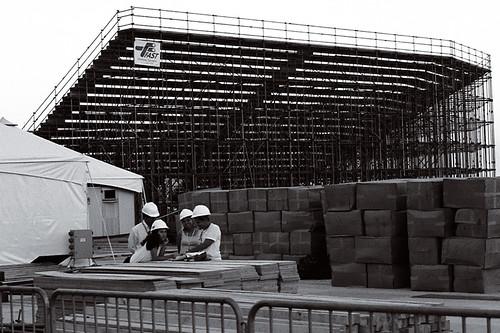person hardhat: (192, 205, 213, 231), (140, 201, 159, 226), (151, 219, 169, 243), (179, 209, 194, 230)
